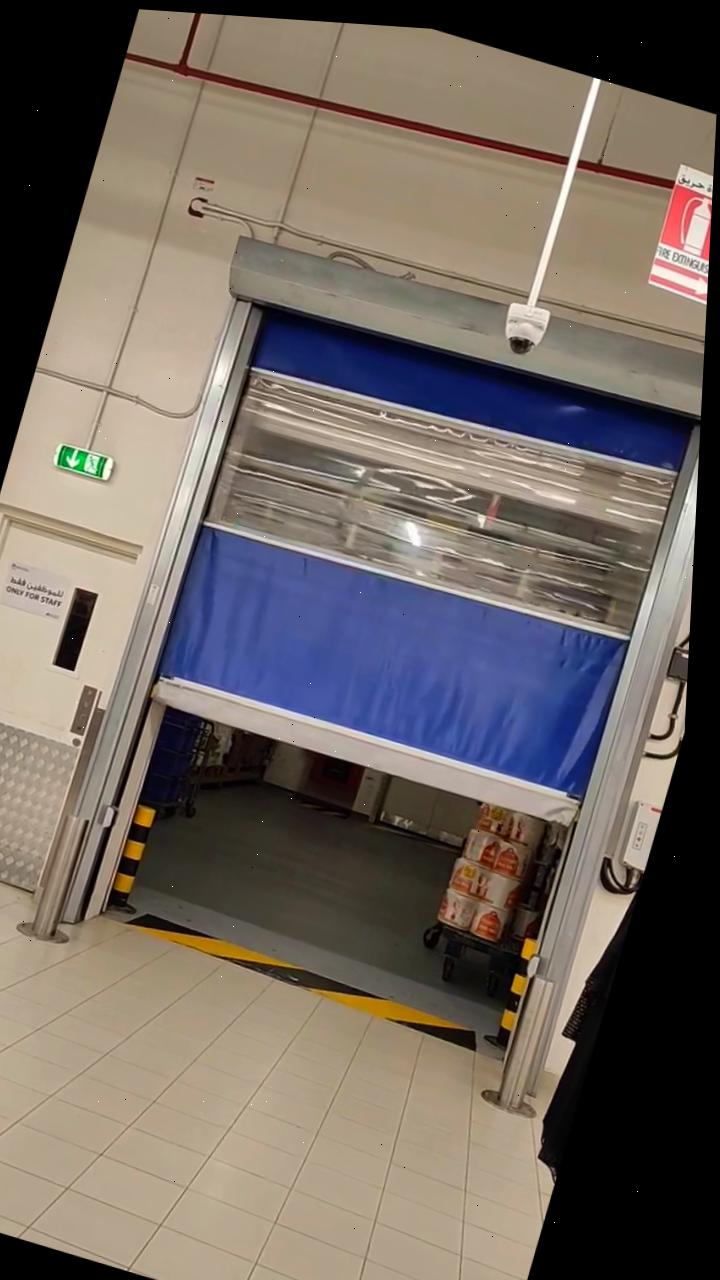Strip: (118, 886, 510, 1058)
